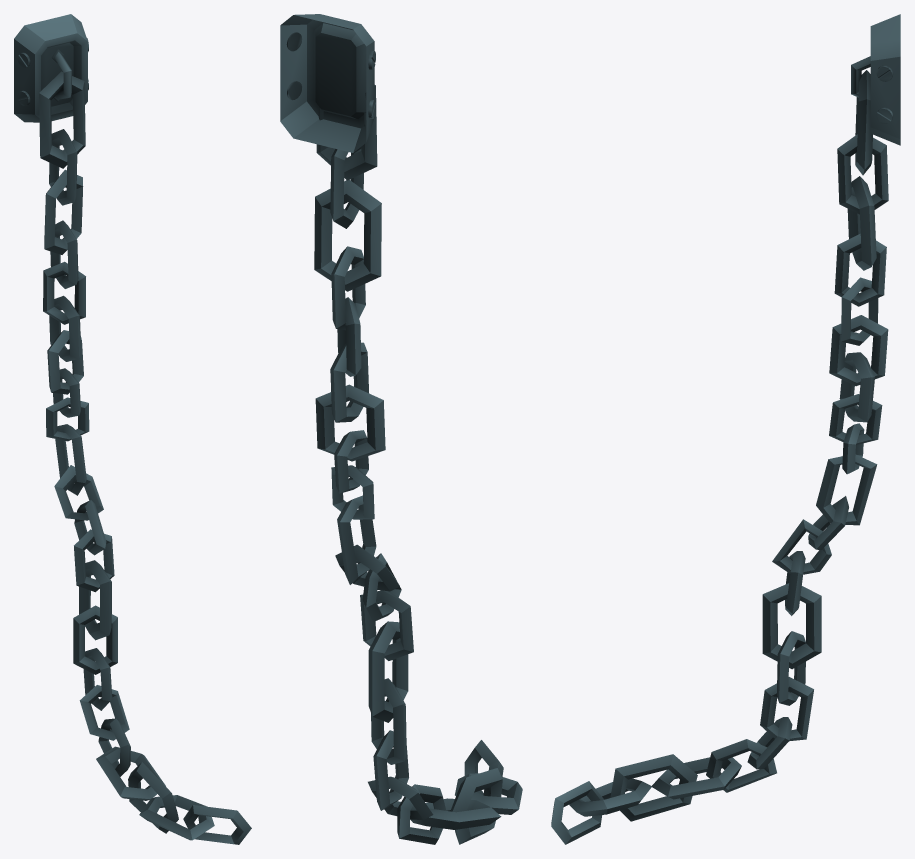
Rendered from obj_chain_hang_A.FBX.
3 renders of one model, left to right at view 1: azimuth 30°, elevation 25°; view 2: azimuth 150°, elevation 25°; view 3: azimuth 270°, elevation 25°, orthographic. The views are drawn at different scales.
Parts seen in each view (by area): view 1: obj_chain_hang_A; view 2: obj_chain_hang_A; view 3: obj_chain_hang_A.
Part boxes in pixels (<box>): obj_chain_hang_A: <box>14,14,251,844</box>; obj_chain_hang_A: <box>280,14,522,844</box>; obj_chain_hang_A: <box>551,14,900,844</box>.
Size of the model in its own units: 0.4326 by 3.75 by 1.49.
